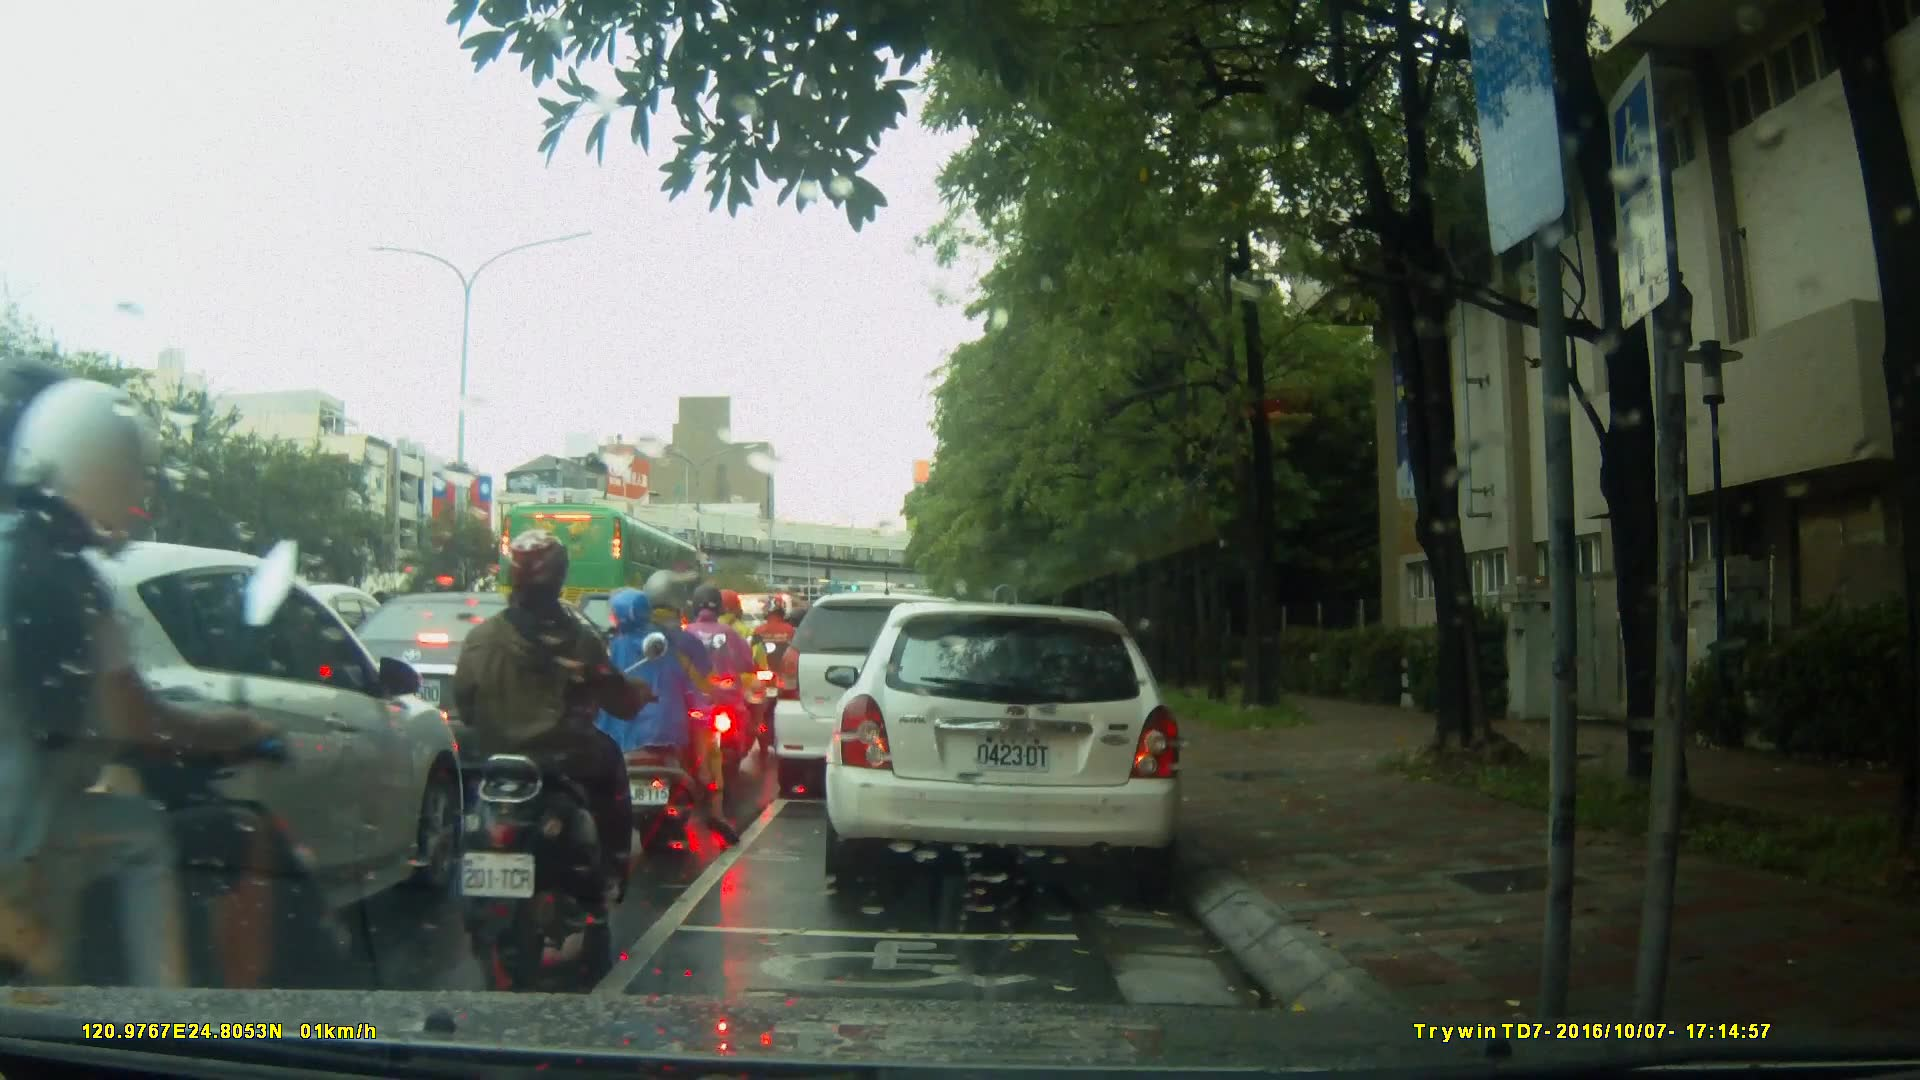rider: (6, 391, 375, 1070), (434, 523, 654, 975), (603, 573, 719, 839), (674, 588, 746, 783), (710, 591, 782, 773), (752, 593, 801, 736)
vehicle: (4, 535, 467, 988), (831, 592, 1196, 897), (312, 589, 629, 776), (770, 590, 999, 804), (501, 503, 709, 636)
